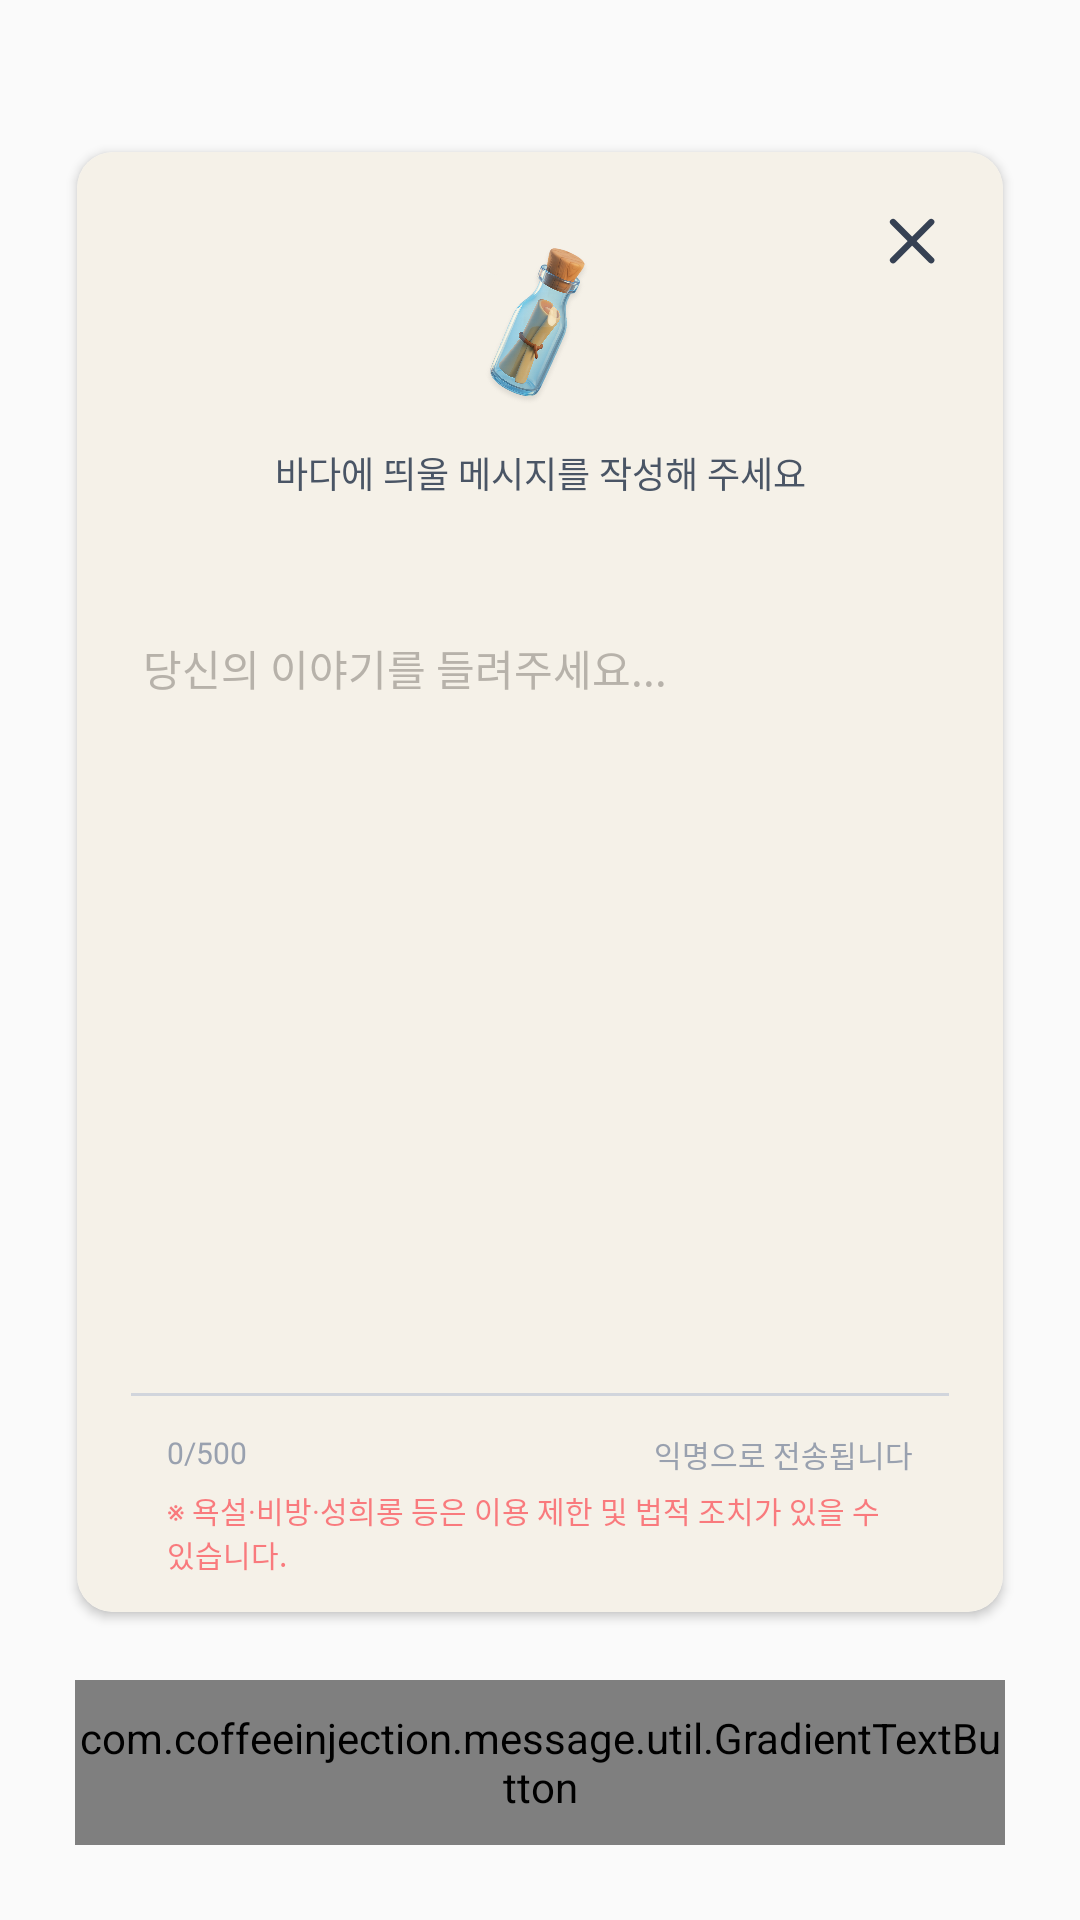

Point at icon controls on the screen. Image size 1080w x 1920h, points as (x=x, y=y).
bottle: (x=537, y=322)
close: (x=912, y=241)
